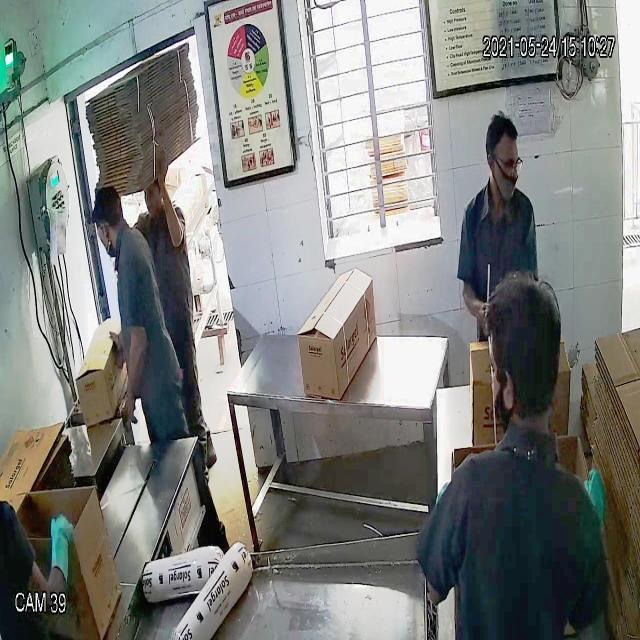glasses: (483, 143, 527, 184)
